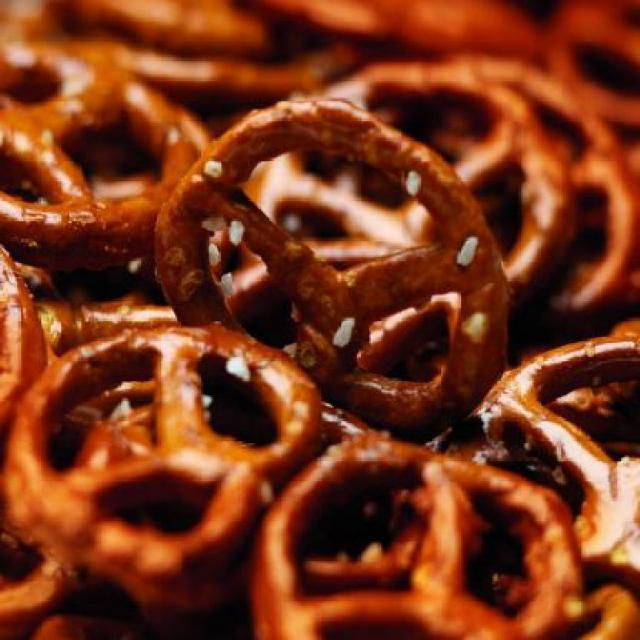Salatini packaged: (139, 94, 510, 430)
